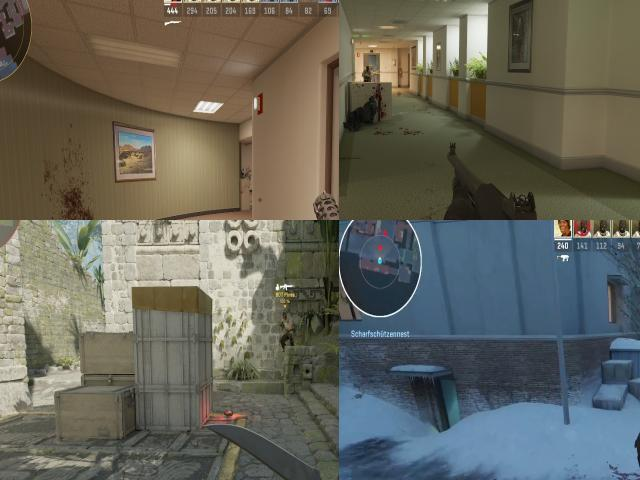Bomb: (221, 407, 235, 423)
CT: (635, 412, 640, 469)
Dead: (344, 96, 384, 130)
T: (275, 304, 302, 352), (363, 64, 372, 81)
T-Head: (280, 310, 291, 322), (366, 66, 370, 71)
